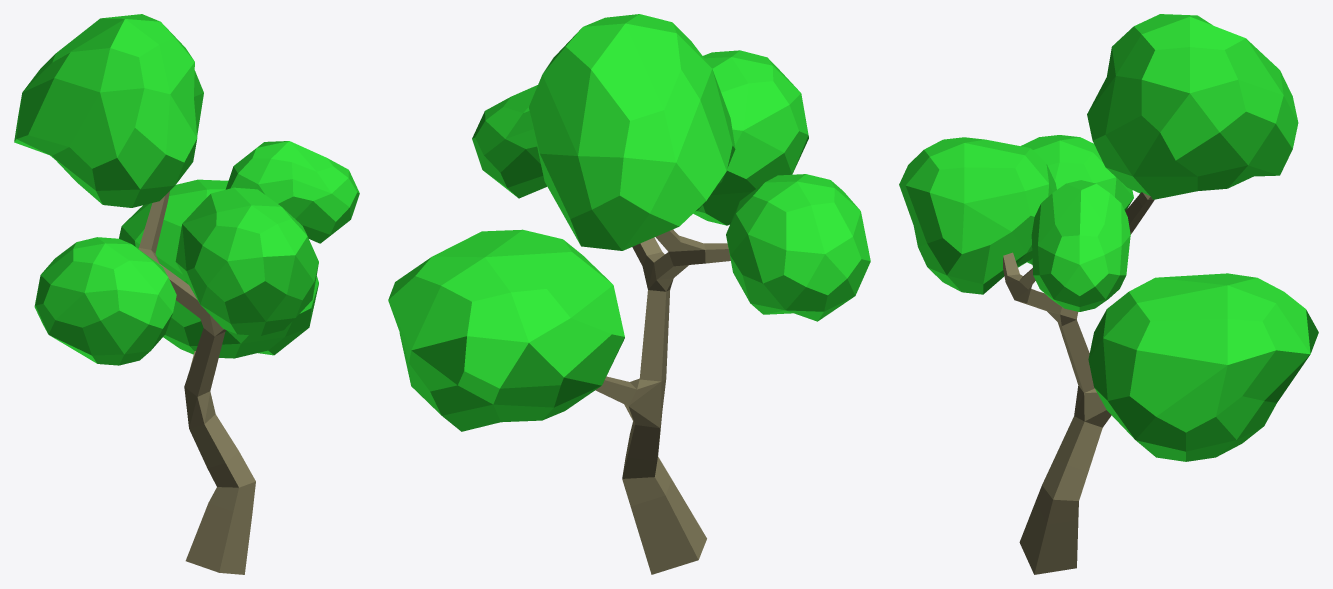
File: Birch 1.fbx
3 renders of one model, left to right at view 1: azimuth 30°, elevation 25°; view 2: azimuth 150°, elevation 25°; view 3: azimuth 270°, elevation 25°, orthographic. The views are drawn at different scales.
Visible parts, largest first — view 1: Leaves5, Leaves2, Leaves4, Trunk, Leaves3, Leaves1; view 2: Leaves5, Leaves1, Leaves4, Trunk, Leaves2, Leaves3; view 3: Leaves1, Leaves5, Leaves2, Trunk, Leaves3, Leaves4.
Part boxes in pixels (box(x1,y1,x2,y2)): Leaves5: box(14, 14, 203, 207); Leaves2: box(175, 187, 318, 335); Leaves4: box(34, 237, 176, 365); Trunk: box(138, 191, 255, 574); Leaves3: box(225, 141, 359, 243); Leaves1: box(119, 179, 318, 358); Leaves5: box(528, 14, 735, 250); Leaves1: box(388, 229, 624, 431); Leaves4: box(726, 174, 870, 321); Trunk: box(595, 229, 730, 574); Leaves2: box(693, 50, 808, 225); Leaves3: box(472, 85, 547, 198); Leaves1: box(1088, 273, 1318, 461); Leaves5: box(1087, 14, 1298, 199); Leaves2: box(899, 137, 1056, 294); Trunk: box(1003, 192, 1154, 574); Leaves3: box(1031, 180, 1130, 311); Leaves4: box(1021, 135, 1133, 264).
Size of the model in its own units: 893 by 1361 by 967.
